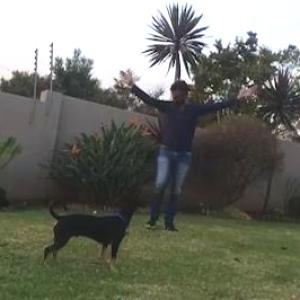takeoff: (122, 62, 266, 228)
